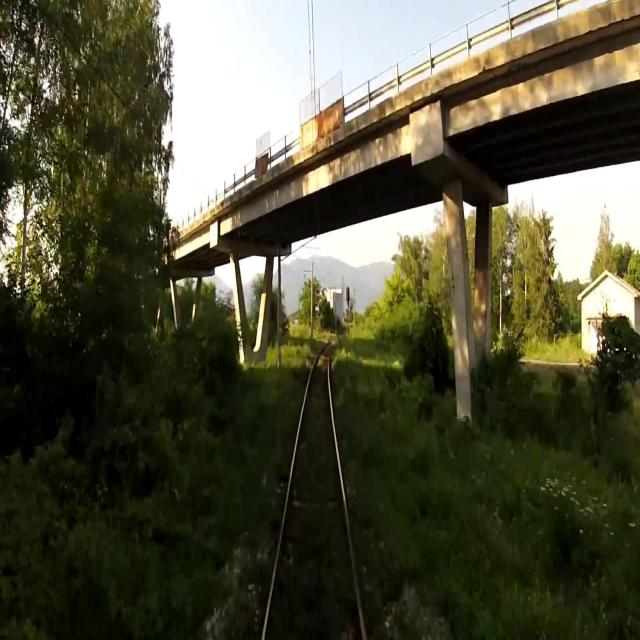rail-track: (265, 343, 361, 639)
